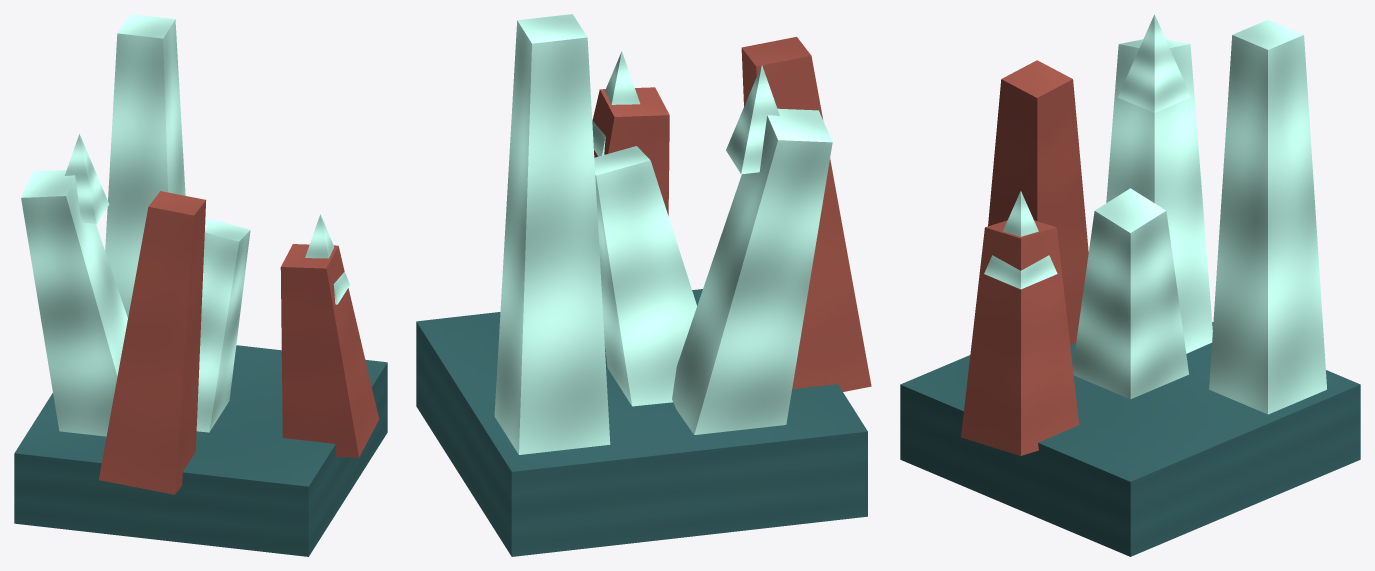
Rendered from atlas100-s035-a04.lod2.glb.
The picture shows the model from 3 angles, left to right: view 1: azimuth 30°, elevation 25°; view 2: azimuth 150°, elevation 25°; view 3: azimuth 270°, elevation 25°; orthographic projection. The views are drawn at different scales.
Visible parts, largest first — view 1: atlas100-s035-a04:part-000, atlas100-s035-a04:part-003, atlas100-s035-a04:part-009, atlas100-s035-a04:part-005, atlas100-s035-a04:part-007, atlas100-s035-a04:part-001, atlas100-s035-a04:part-010, atlas100-s035-a04:part-008; view 2: atlas100-s035-a04:part-000, atlas100-s035-a04:part-005, atlas100-s035-a04:part-009, atlas100-s035-a04:part-001, atlas100-s035-a04:part-003, atlas100-s035-a04:part-007, atlas100-s035-a04:part-010, atlas100-s035-a04:part-008; view 3: atlas100-s035-a04:part-000, atlas100-s035-a04:part-005, atlas100-s035-a04:part-007, atlas100-s035-a04:part-001, atlas100-s035-a04:part-003, atlas100-s035-a04:part-009, atlas100-s035-a04:part-010, atlas100-s035-a04:part-008.
Boxes of the visible parts, left/top/right/bottom form: atlas100-s035-a04:part-000: left=14, top=345, right=387, bottom=556; atlas100-s035-a04:part-003: left=99, top=191, right=206, bottom=494; atlas100-s035-a04:part-009: left=21, top=170, right=127, bottom=436; atlas100-s035-a04:part-005: left=105, top=14, right=185, bottom=317; atlas100-s035-a04:part-007: left=280, top=244, right=379, bottom=457; atlas100-s035-a04:part-001: left=196, top=217, right=250, bottom=432; atlas100-s035-a04:part-010: left=64, top=134, right=109, bottom=224; atlas100-s035-a04:part-008: left=305, top=214, right=349, bottom=304; atlas100-s035-a04:part-000: left=416, top=289, right=867, bottom=556; atlas100-s035-a04:part-005: left=494, top=14, right=610, bottom=454; atlas100-s035-a04:part-009: left=672, top=108, right=832, bottom=434; atlas100-s035-a04:part-001: left=594, top=146, right=696, bottom=406; atlas100-s035-a04:part-003: left=741, top=36, right=871, bottom=391; atlas100-s035-a04:part-007: left=592, top=87, right=669, bottom=215; atlas100-s035-a04:part-010: left=726, top=65, right=779, bottom=174; atlas100-s035-a04:part-008: left=592, top=51, right=640, bottom=156; atlas100-s035-a04:part-000: left=900, top=322, right=1360, bottom=556; atlas100-s035-a04:part-005: left=1209, top=20, right=1326, bottom=414; atlas100-s035-a04:part-007: left=961, top=220, right=1079, bottom=455; atlas100-s035-a04:part-001: left=1072, top=188, right=1188, bottom=399; atlas100-s035-a04:part-003: left=988, top=60, right=1088, bottom=344; atlas100-s035-a04:part-009: left=1106, top=39, right=1212, bottom=353; atlas100-s035-a04:part-010: left=1118, top=14, right=1191, bottom=112; atlas100-s035-a04:part-008: left=984, top=191, right=1057, bottom=289.
Size of the model in its own units: 1.07 by 1.1 by 1.07.
Materials: 3 (3 with a texture image).
